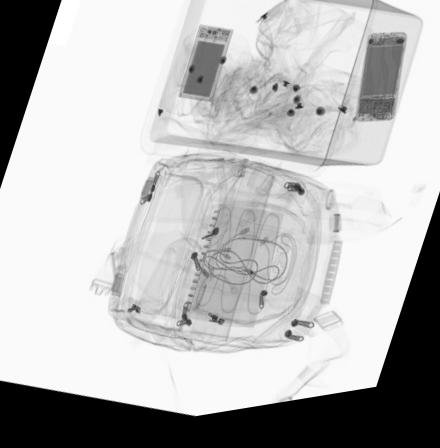Powerbank: (175, 29, 236, 112)
